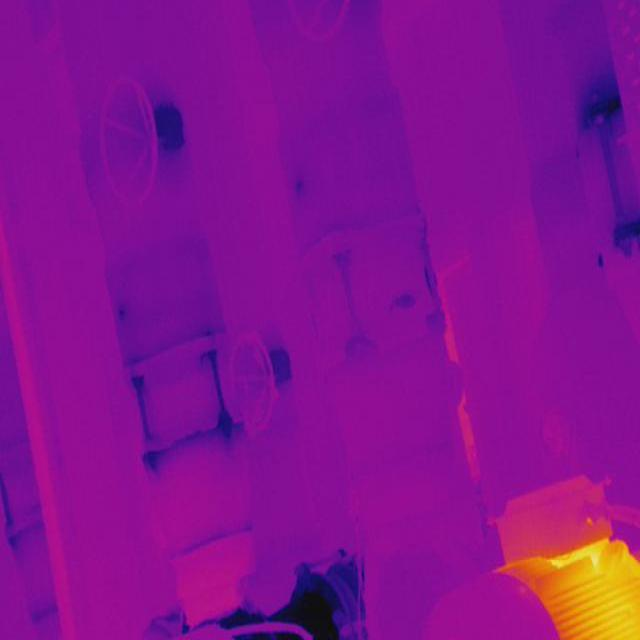leakage: (109, 298, 135, 328), (288, 175, 313, 206), (390, 287, 416, 316)
